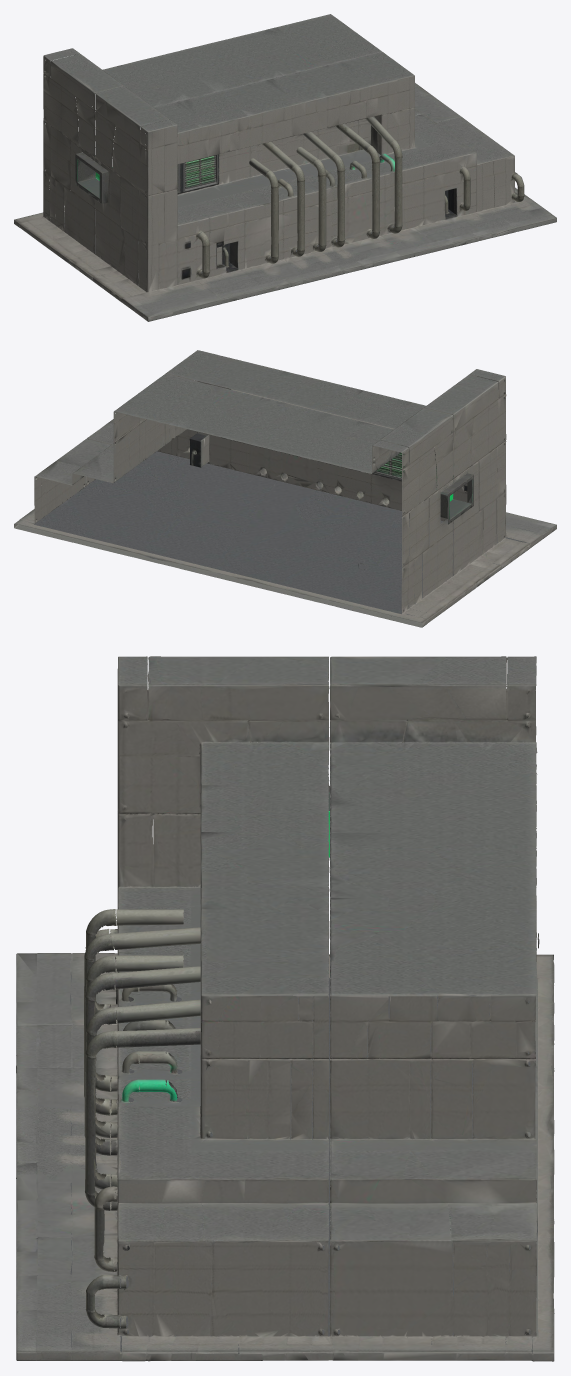
File: reactor_bay.glb
The picture shows the model from 3 angles, top to bottom: view 1: azimuth 30°, elevation 25°; view 2: azimuth 150°, elevation 25°; view 3: azimuth 270°, elevation 25°; orthographic projection. The views are drawn at different scales.
Bounding box in the file's own units: 1.9 × 0.7382 × 1.08.
Materials: 1 (1 with a texture image).
